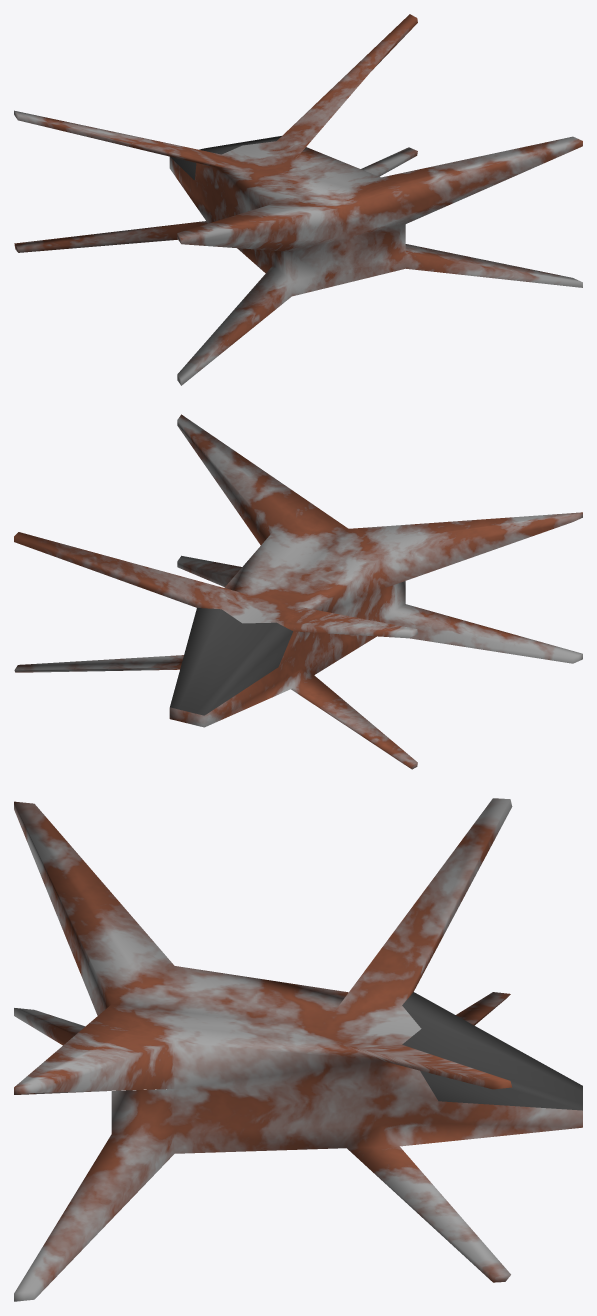
File: PirateFour.fbx
3 renders of one model, top to bottom at view 1: azimuth 30°, elevation 25°; view 2: azimuth 150°, elevation 25°; view 3: azimuth 270°, elevation 25°, orthographic. The views are drawn at different scales.
Parts seen in each view (by area): view 1: pirate_4; view 2: pirate_4; view 3: pirate_4.
Part boxes in pixels (left/top/right/bottom): pirate_4: left=14, top=14, right=582, bottom=385; pirate_4: left=14, top=414, right=582, bottom=769; pirate_4: left=14, top=798, right=582, bottom=1301.
Bounding box in the file's own units: 10471 × 8810 × 3739.
